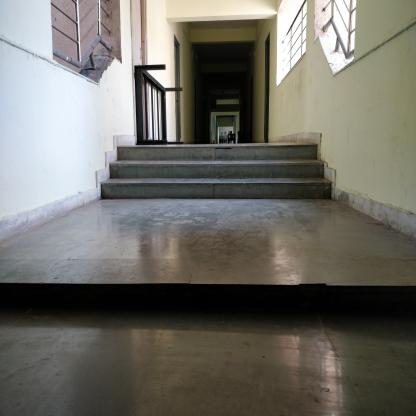stairs: (117, 143, 317, 204)
